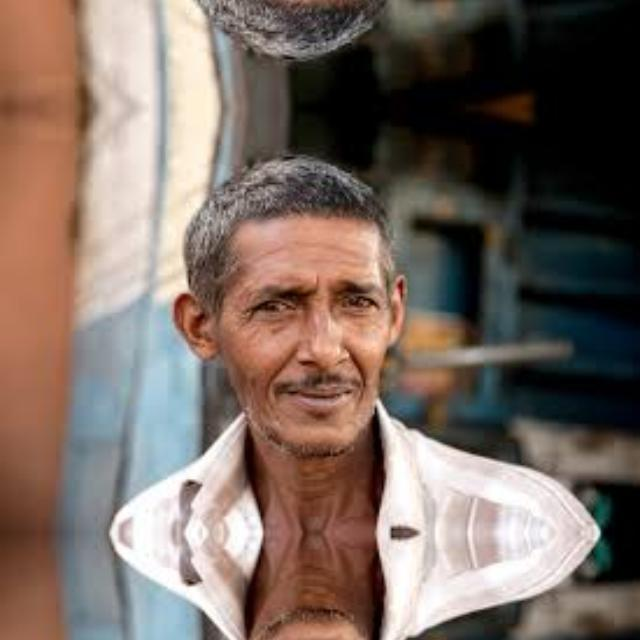person: (156, 133, 462, 475), (156, 0, 462, 81), (156, 590, 462, 640)
